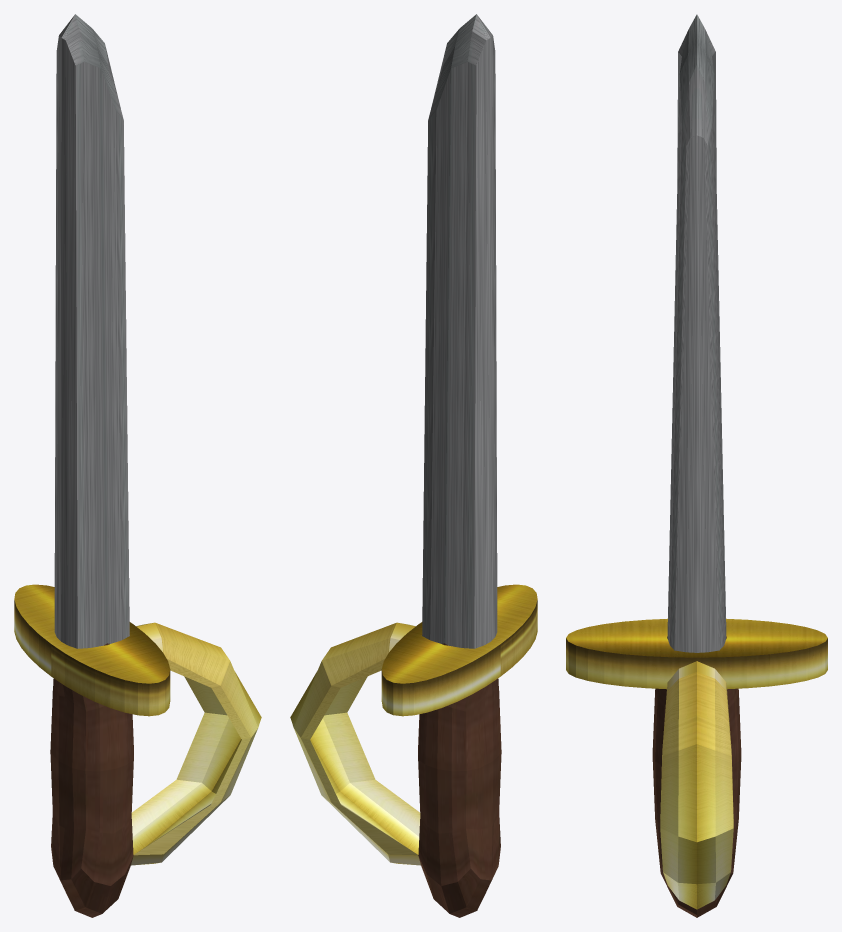
File: Espada.glb
3 renders of one model, left to right at view 1: azimuth 30°, elevation 25°; view 2: azimuth 150°, elevation 25°; view 3: azimuth 270°, elevation 25°, orthographic.
Parts seen in each view (by area): view 1: Cube.001; view 2: Cube.001; view 3: Cube.001.
Part boxes in pixels (<box>): Cube.001: <box>14,14,261,917</box>; Cube.001: <box>290,14,537,917</box>; Cube.001: <box>566,14,827,917</box>.
Bounding box in the file's own units: 2.97 × 12.26 × 3.25.
3 materials, 3 textured.
